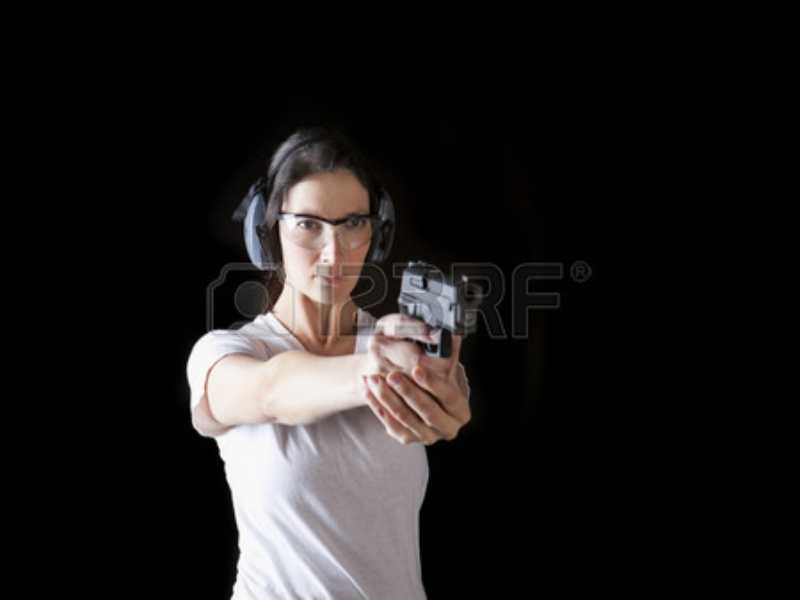gun: (399, 258, 480, 404)
